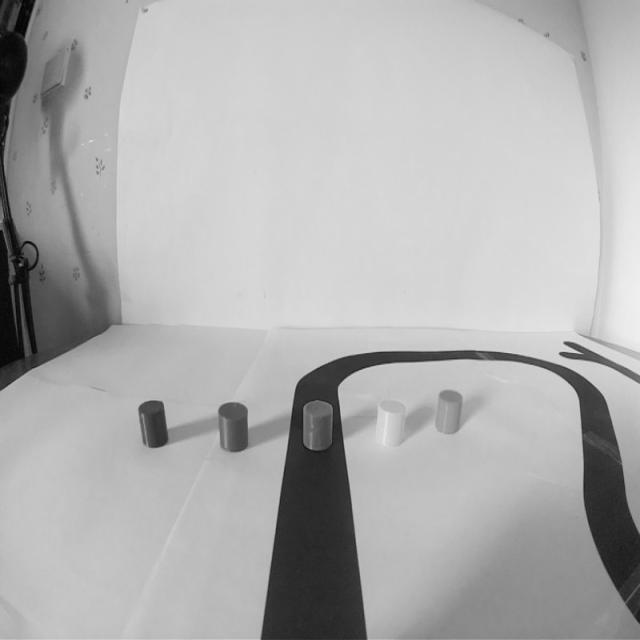cylinder: (217, 400, 250, 455), (375, 396, 408, 451), (302, 398, 334, 454), (136, 397, 170, 449), (435, 388, 463, 438)
lineStraight: (240, 463, 383, 640)
